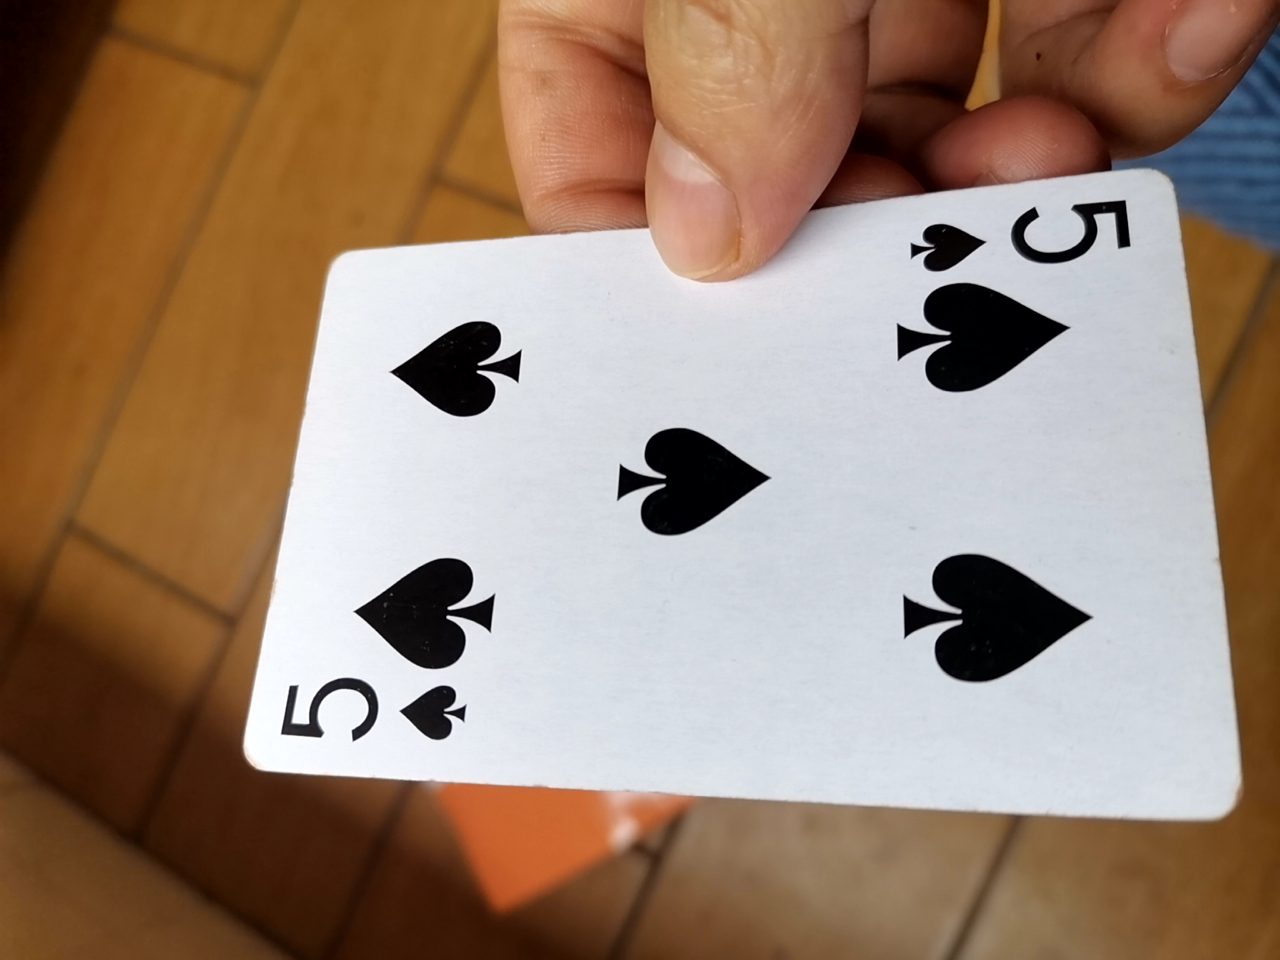ht 5: (223, 176, 1239, 830)
